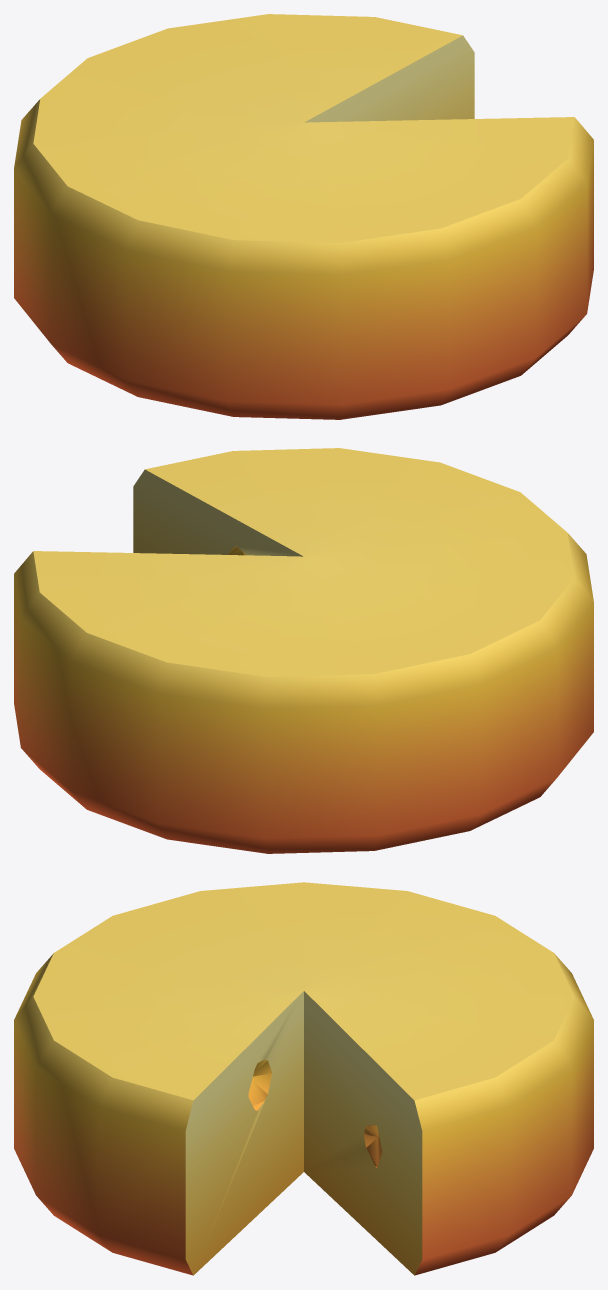
File: cheese_wheel.glb
3 views of the same model, one above another, from view 1: azimuth 30°, elevation 25°; view 2: azimuth 150°, elevation 25°; view 3: azimuth 270°, elevation 25° (orthographic).
Visible parts, largest first — view 1: cheese_wheel; view 2: cheese_wheel; view 3: cheese_wheel.
Boxes of the visible parts, x1,y1,x2,y2 form: cheese_wheel: [14, 14, 593, 419]; cheese_wheel: [14, 448, 593, 853]; cheese_wheel: [14, 882, 593, 1275].
Size of the model in its own units: 0.8581 by 0.31 by 0.9.
Materials: 1 (1 with a texture image).
